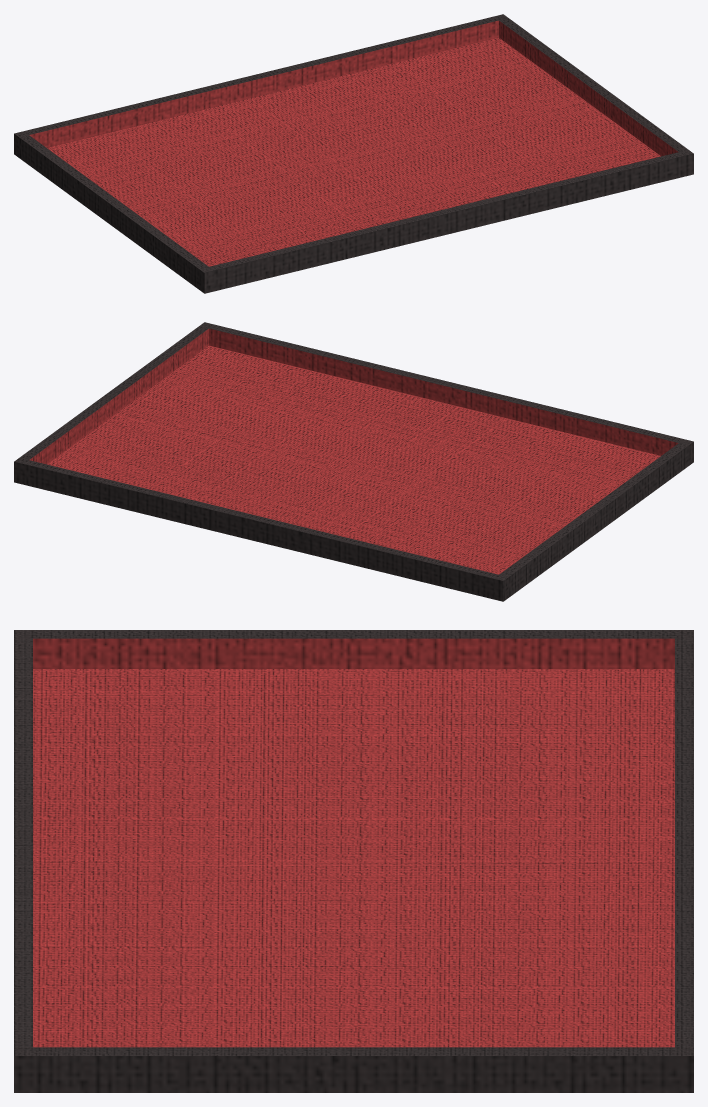
File: M_Obon.fbx
3 views of the same model, one above another, from view 1: azimuth 30°, elevation 25°; view 2: azimuth 150°, elevation 25°; view 3: azimuth 270°, elevation 25° (orthographic). The views are drawn at different scales.
Visible parts, largest first — view 1: M_Obon; view 2: M_Obon; view 3: M_Obon.
Boxes of the visible parts, box(x1,y1,x2,y2) form: M_Obon: box(14, 14, 693, 293); M_Obon: box(14, 322, 693, 601); M_Obon: box(14, 630, 693, 1092).
Bounding box in the file's own units: 42.91 × 1.74 × 28.95.
